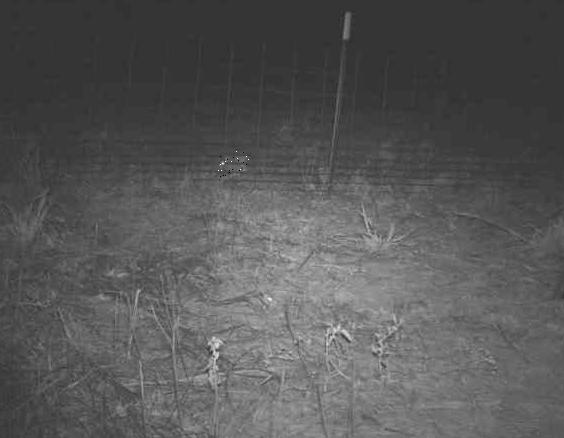Rabbit: (216, 150, 253, 177)
